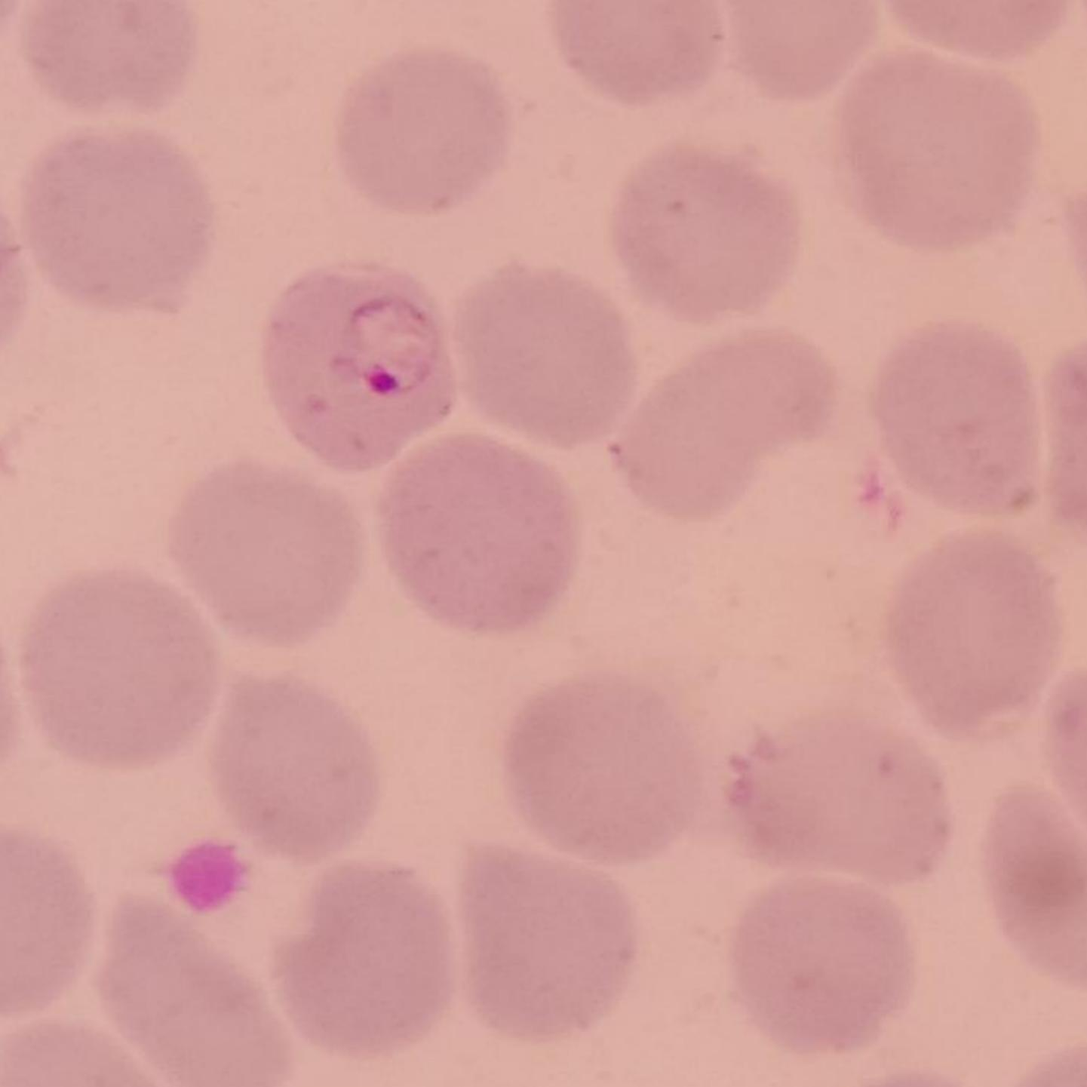Infected: (265, 263, 462, 471)
Uninfected: (624, 330, 842, 523), (18, 569, 220, 773), (502, 672, 709, 871), (723, 699, 949, 880), (379, 432, 579, 635), (836, 53, 1036, 252), (166, 457, 364, 651), (100, 897, 298, 1081), (22, 130, 216, 315), (278, 860, 460, 1057), (458, 843, 636, 1044), (886, 532, 1059, 737), (610, 143, 803, 322), (453, 266, 638, 451), (726, 874, 913, 1055), (871, 318, 1042, 511), (209, 675, 380, 864), (334, 48, 514, 216)
